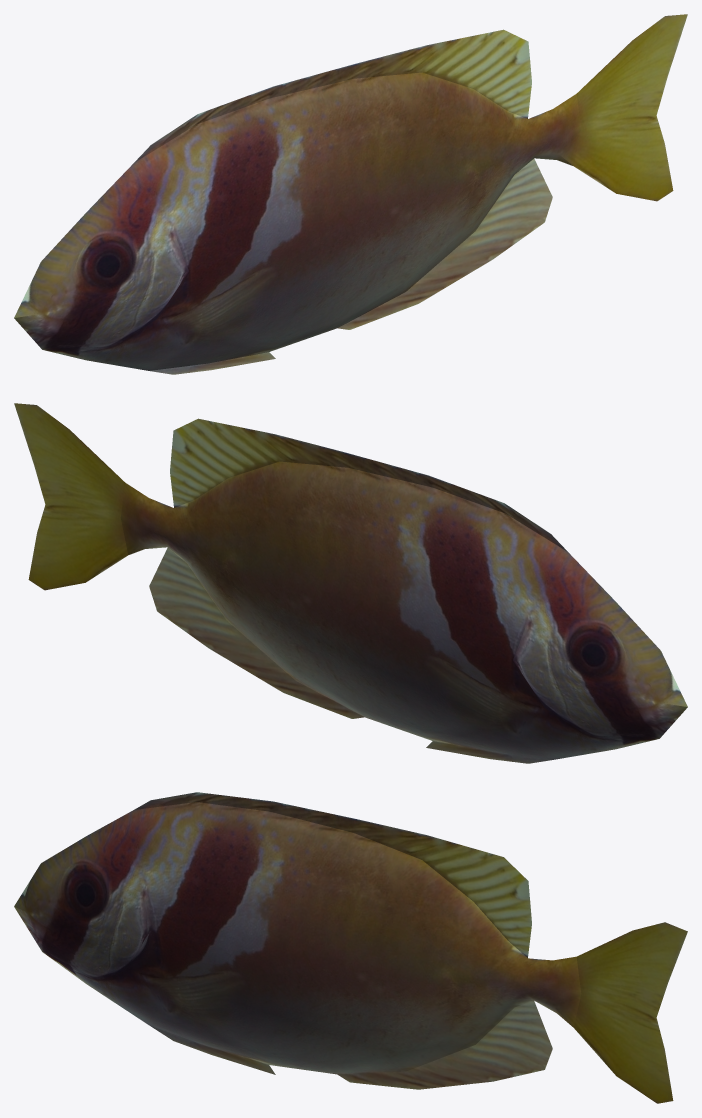
File: small_fish1.fbx
3 renders of one model, top to bottom at view 1: azimuth 30°, elevation 25°; view 2: azimuth 150°, elevation 25°; view 3: azimuth 330°, elevation 25°, orthographic.
Parts seen in each view (by area): view 1: small_fish1; view 2: small_fish1; view 3: small_fish1.
Part boxes in pixels (<box>): small_fish1: <box>14,14,687,374</box>; small_fish1: <box>14,403,687,763</box>; small_fish1: <box>14,792,687,1103</box>.
Bounding box in the file's own units: 39.18 × 15.38 × 4.17.
